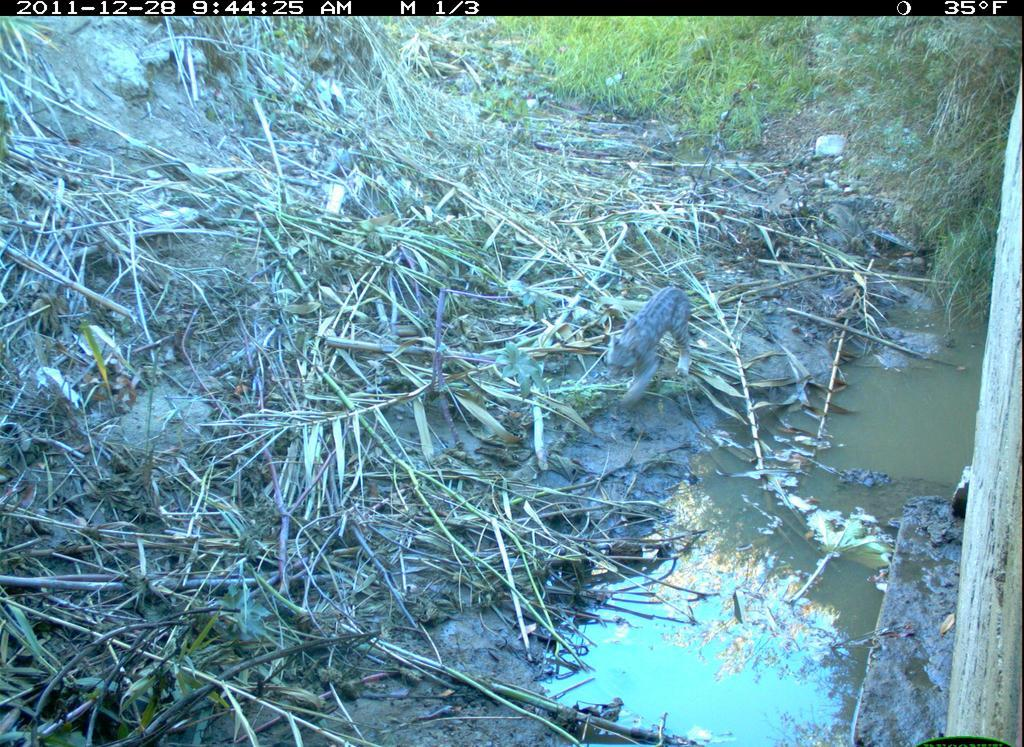bobcat: (601, 282, 701, 413)
